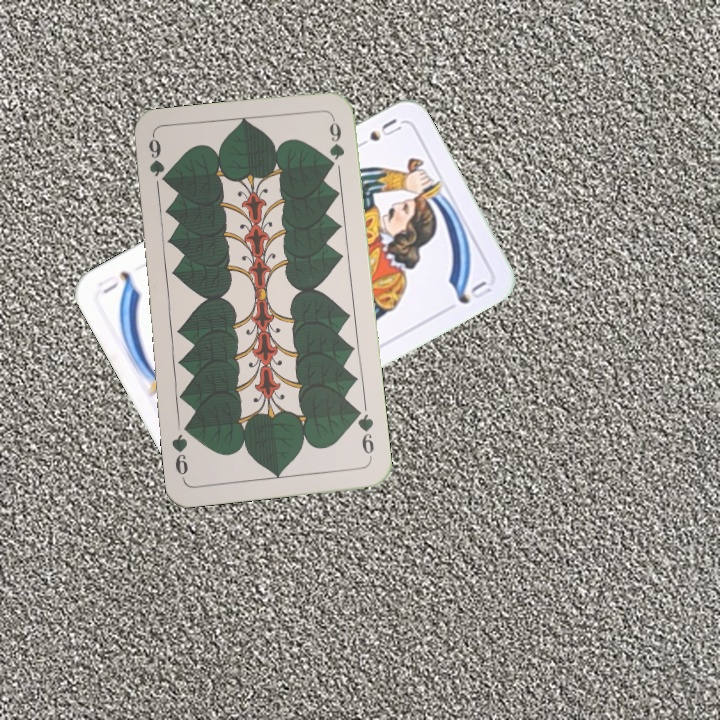G9: (351, 404, 377, 462), (144, 134, 166, 179)
SU: (350, 114, 405, 152)
